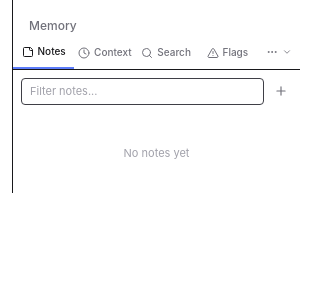
MemoryPanel › main component › shows advanced tabs when More button is clicked
The width and height of the screenshot is (332, 288).
Click the button titled "More tools" at coordinates (279, 52), box [258, 36, 300, 69]
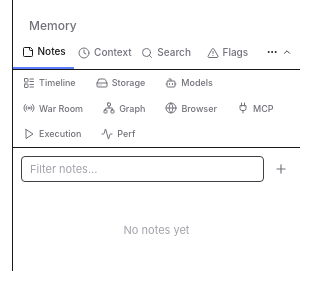
Check: the button "Timeline" is shown, box [13, 70, 86, 96]
Check: the button "Storage" is shown, box [86, 70, 155, 96]
Check: the button "Models" is shown, box [155, 70, 223, 96]
